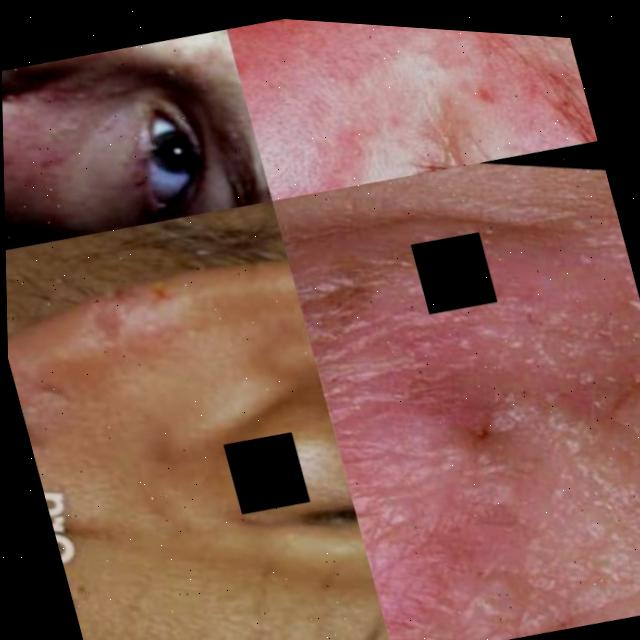lupus-detected: (270, 119, 640, 640), (4, 190, 332, 594), (0, 20, 248, 272), (225, 15, 471, 213), (346, 23, 598, 192), (0, 14, 237, 136)
